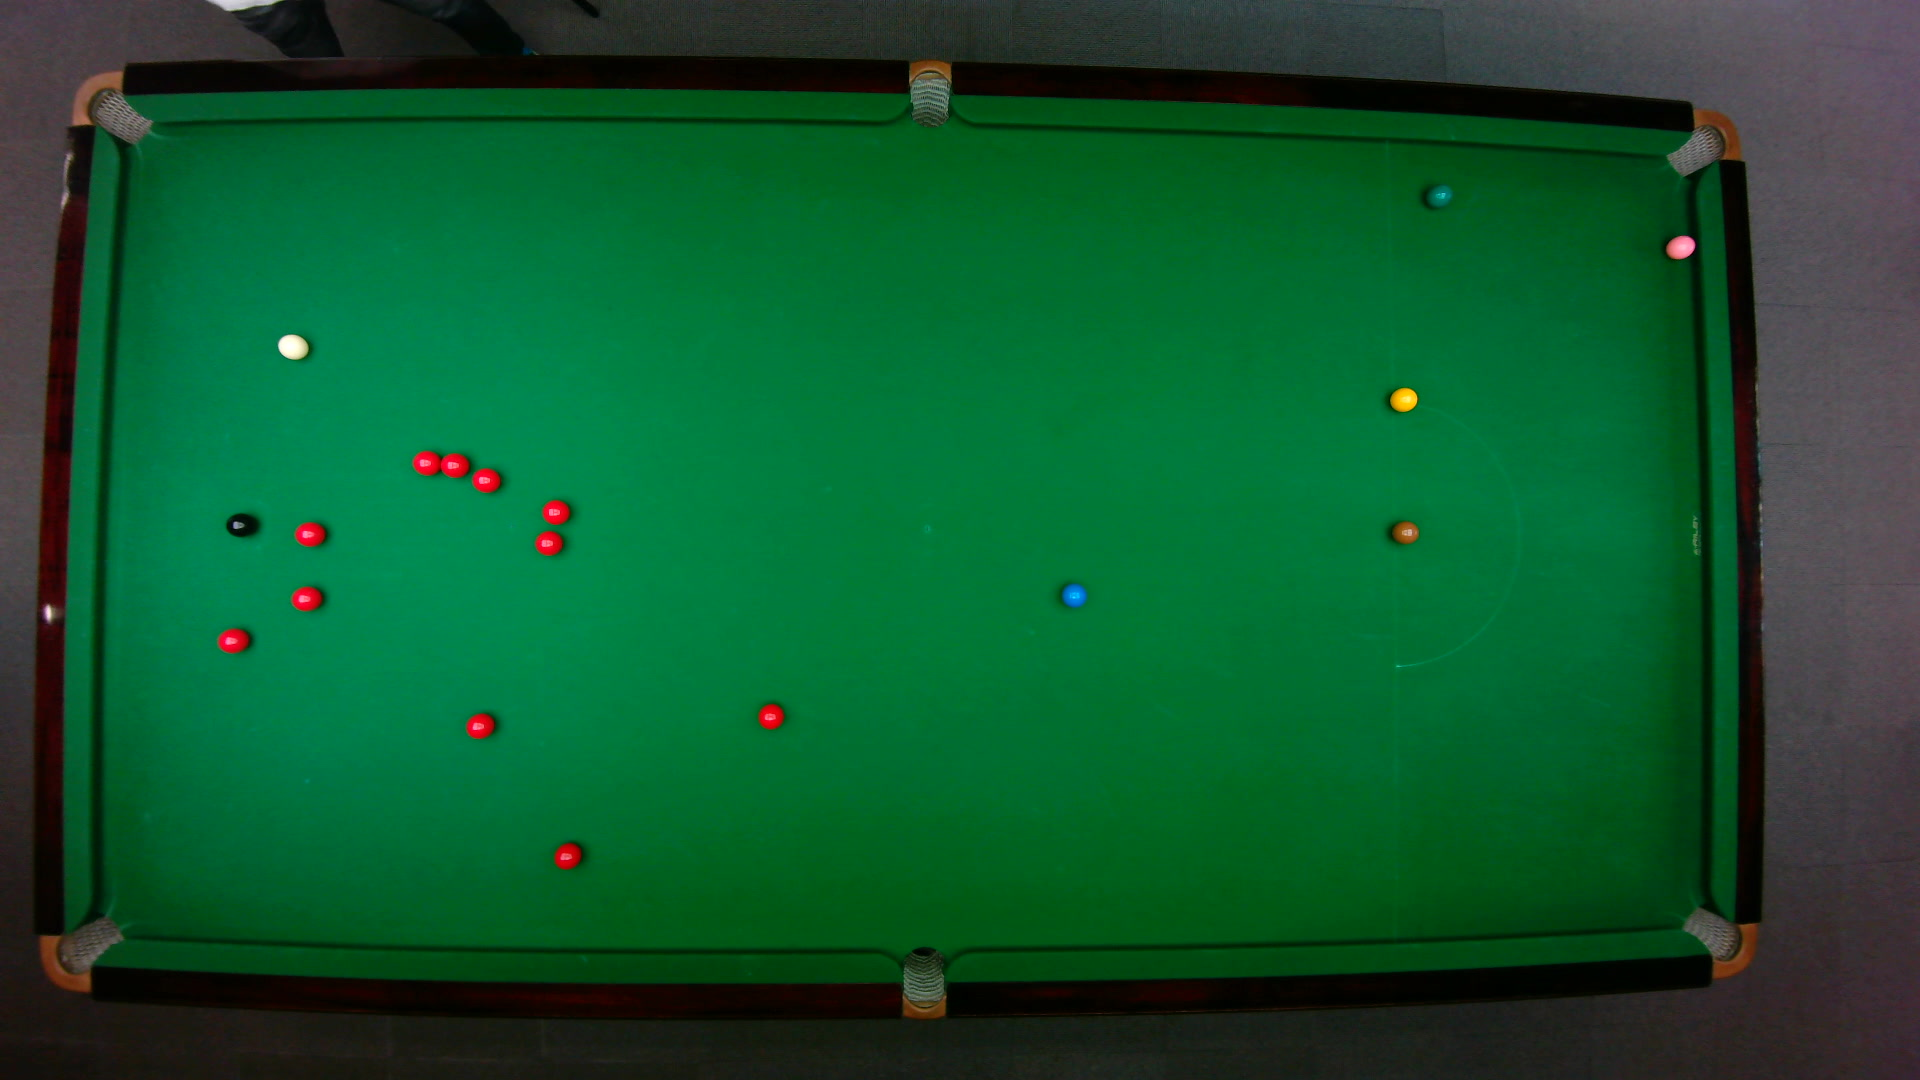bag: (37, 914, 125, 992), (69, 69, 153, 144), (1677, 905, 1756, 978), (1663, 107, 1741, 177), (901, 944, 944, 1021), (909, 55, 949, 128)
black: (223, 512, 256, 538)
blue: (1059, 580, 1087, 608)
brown: (1390, 520, 1419, 545)
green: (1423, 182, 1453, 208)
pink: (1663, 232, 1697, 260)
red: (551, 839, 583, 870), (215, 625, 251, 653), (291, 520, 326, 547), (289, 584, 323, 612), (463, 711, 496, 738), (469, 465, 501, 493), (756, 702, 785, 731), (439, 450, 469, 477), (533, 529, 563, 556), (409, 448, 440, 475), (541, 498, 570, 525)
white: (276, 332, 310, 360)
yellow: (1387, 385, 1418, 411)
zone: (1390, 401, 1520, 667)
